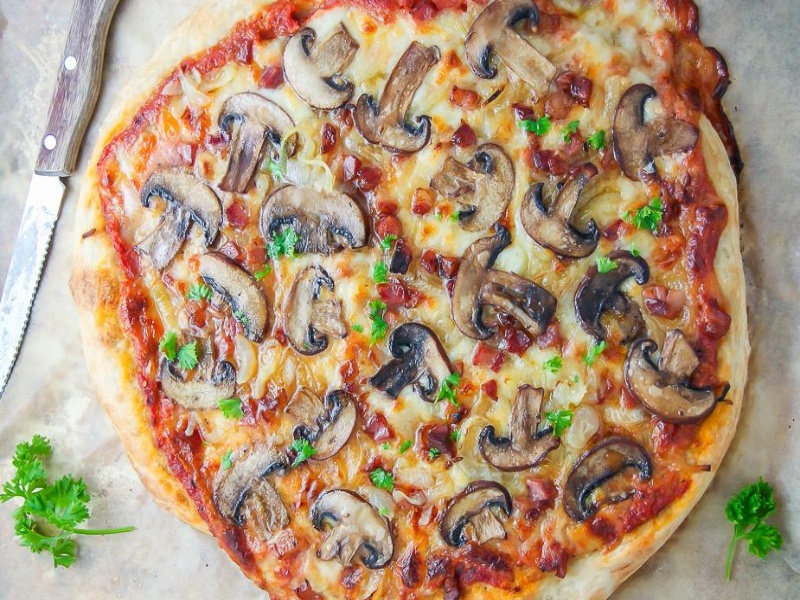champignon: (447, 232, 559, 350), (620, 330, 725, 432), (605, 80, 706, 185), (303, 486, 414, 581), (211, 92, 305, 202), (130, 165, 224, 273), (354, 40, 438, 159), (254, 178, 370, 263), (517, 161, 606, 264), (473, 378, 567, 473), (271, 24, 371, 113), (431, 142, 523, 236), (276, 380, 361, 468), (274, 264, 350, 361), (435, 478, 533, 553), (158, 344, 249, 415)
